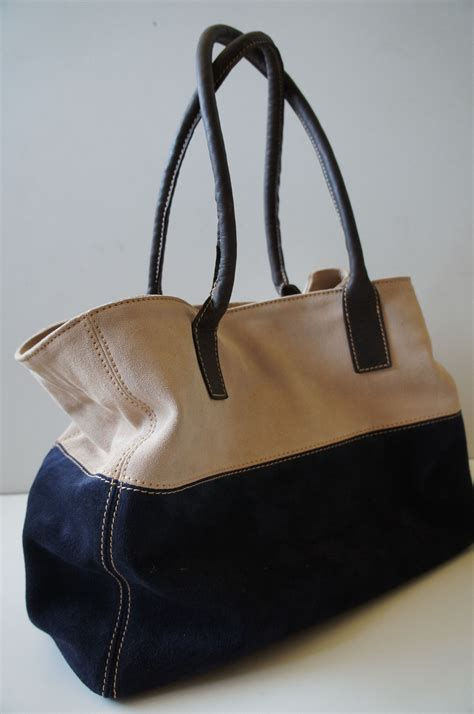gamuza: (21, 277, 474, 703)
